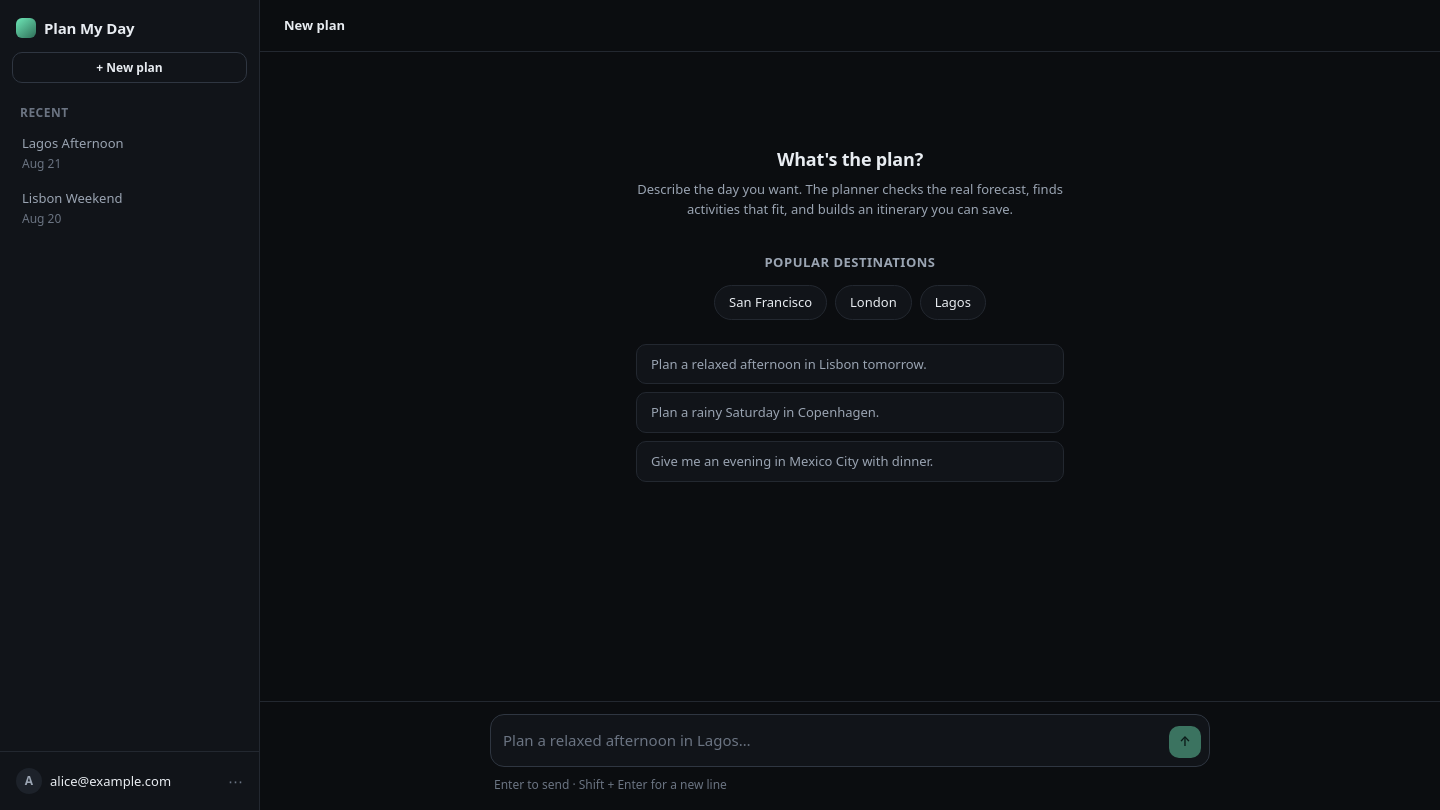
Scenario: conversation replay › replaces the transcript when switching conversations
Click the text "Lisbon Weekend" at [72, 198], box [22,189,122,207]
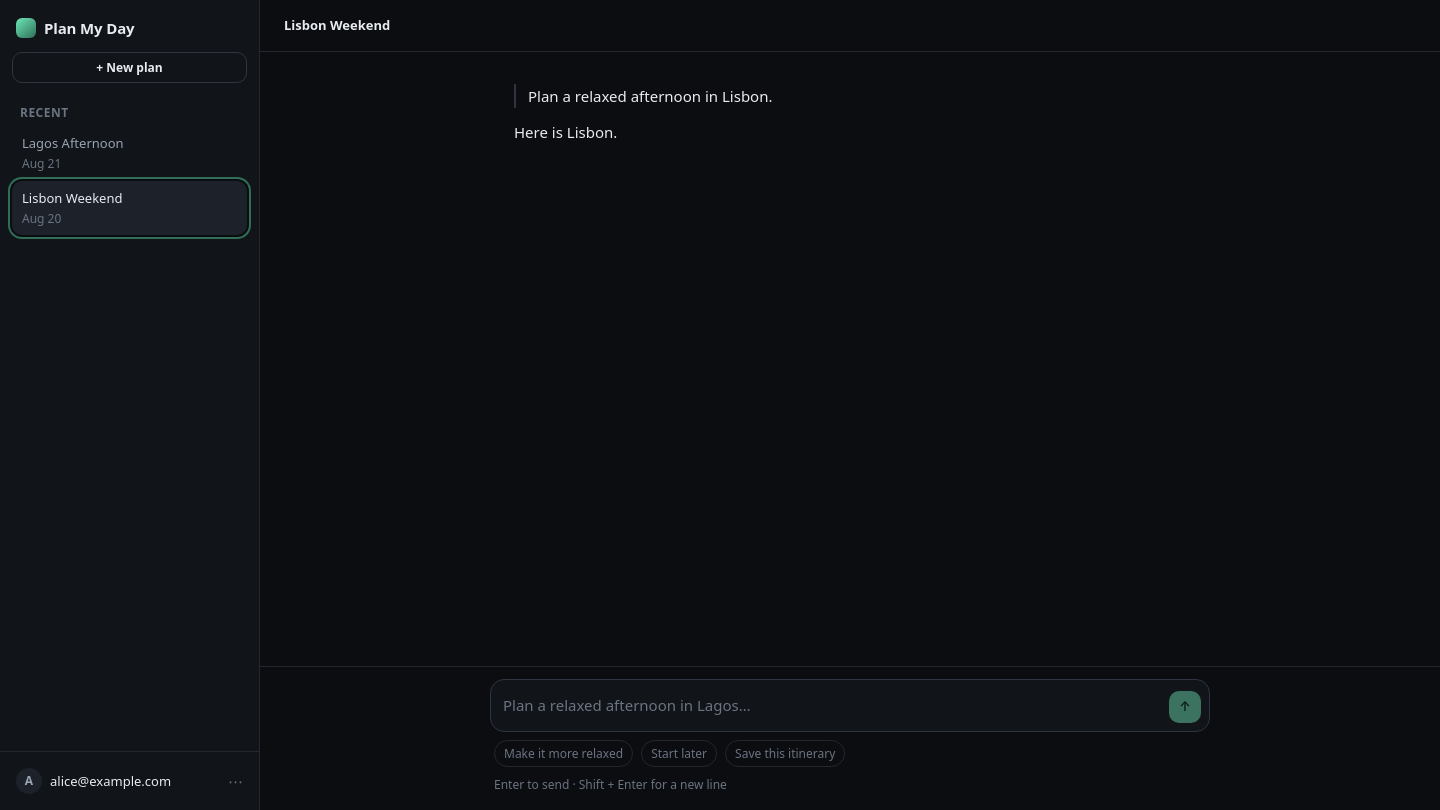
Check: the text "Here is Lisbon." is shown, box [514,122,617,142]
